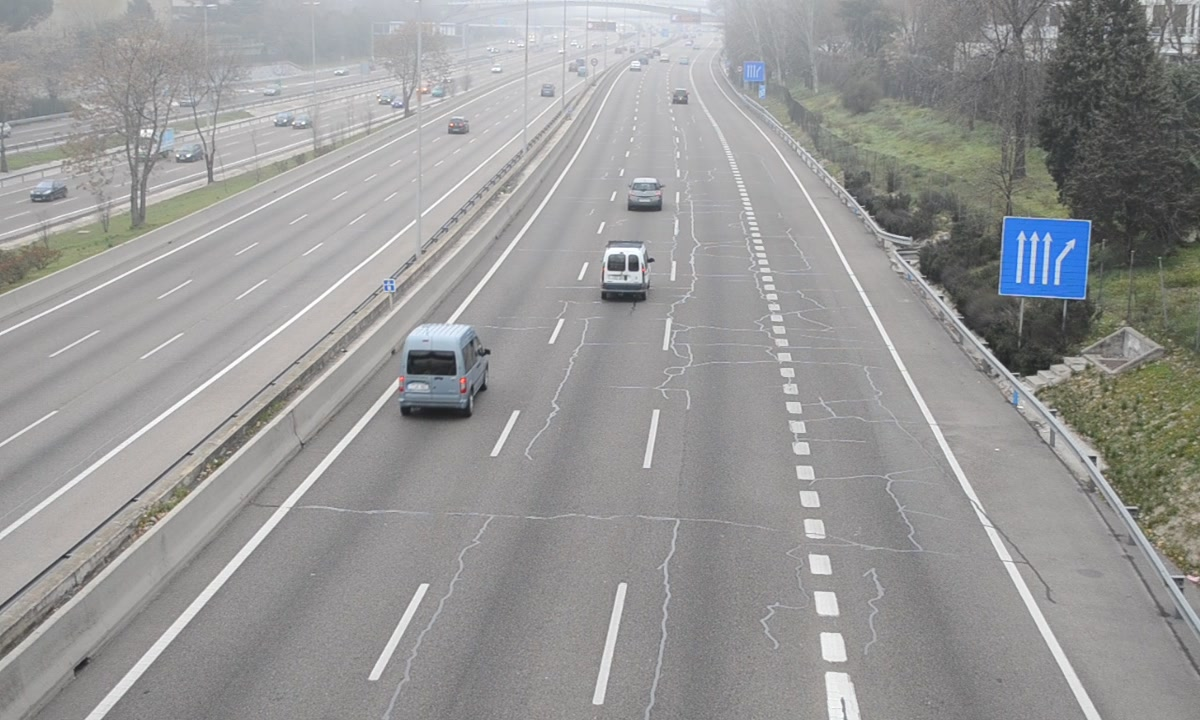car: (626, 178, 664, 213)
van: (397, 324, 485, 415), (600, 245, 647, 298)
